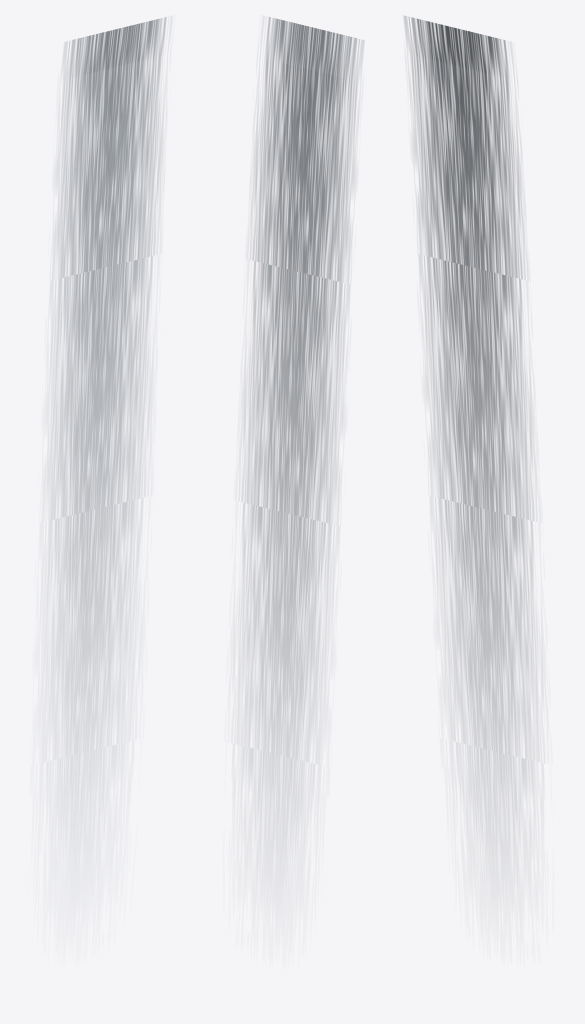
The model's file is fx_waterfall_notch_ribbon_16m.glb.
3 views of the same model, side by side, from view 1: azimuth 30°, elevation 25°; view 2: azimuth 150°, elevation 25°; view 3: azimuth 330°, elevation 25° (orthographic). The views are drawn at different scales.
Parts seen in each view (by area): view 1: fx_waterfall_notch_ribbon_16m; view 2: fx_waterfall_notch_ribbon_16m; view 3: fx_waterfall_notch_ribbon_16m.
Boxes of the visible parts, x1,y1,x2,y2 form: fx_waterfall_notch_ribbon_16m: [41, 17, 171, 849]; fx_waterfall_notch_ribbon_16m: [238, 17, 364, 850]; fx_waterfall_notch_ribbon_16m: [404, 16, 537, 847].
Size of the model in its own units: 2.15 by 16 by 1.3.
1 material, 1 textured.
